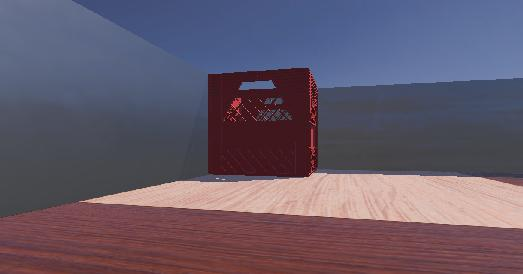PlasticCrate: (199, 60, 327, 187)
